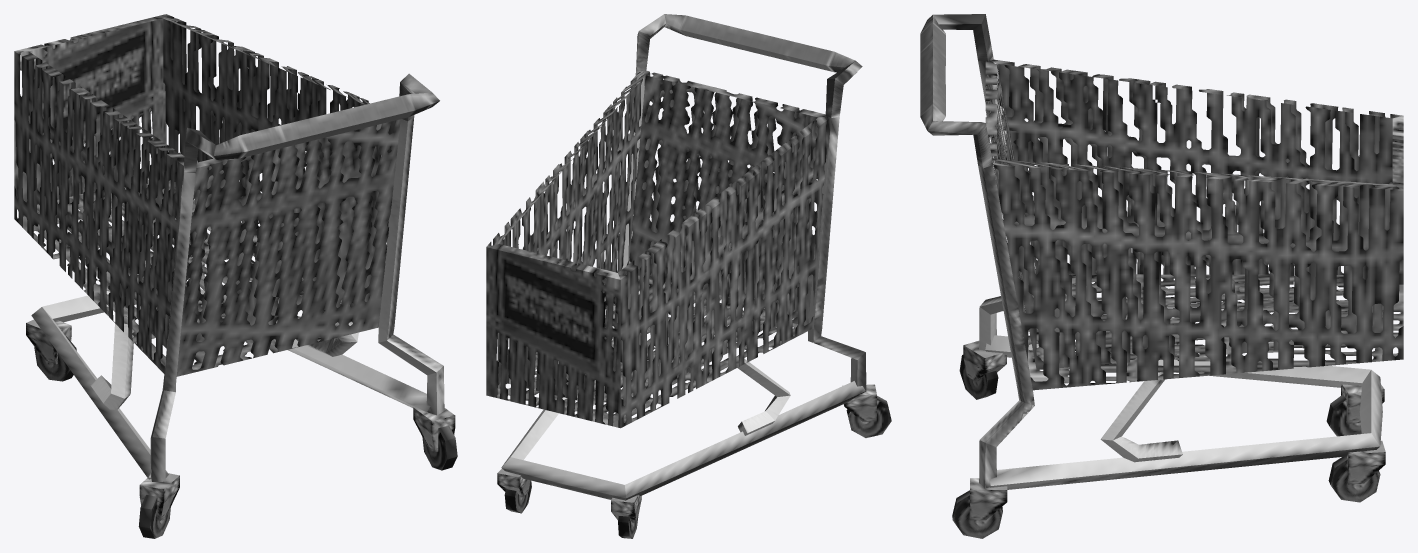
Rendered from cart.glb.
3 renders of one model, left to right at view 1: azimuth 30°, elevation 25°; view 2: azimuth 150°, elevation 25°; view 3: azimuth 270°, elevation 25°, orthographic. The views are drawn at different scales.
Visible parts, largest first — view 1: Cube.004; view 2: Cube.004; view 3: Cube.004.
Part boxes in pixels (box(x1,y1,x2,y2)): Cube.004: box(14, 14, 457, 538); Cube.004: box(486, 14, 891, 538); Cube.004: box(920, 14, 1403, 538).
Size of the model in its own units: 0.9926 by 1.21 by 1.3.
Materials: 1 (1 with a texture image).
